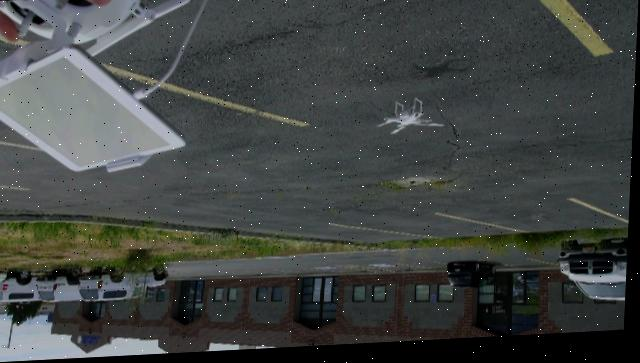drone: (381, 100, 446, 140)
